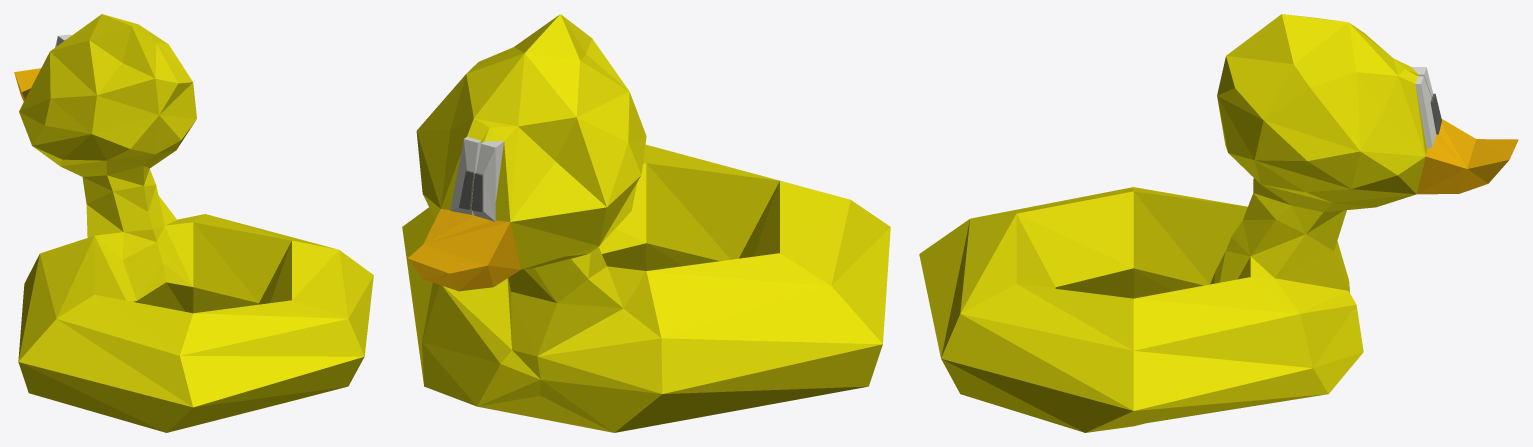
The model's file is safetyRing.fbx.
3 views of the same model, side by side, from view 1: azimuth 30°, elevation 25°; view 2: azimuth 150°, elevation 25°; view 3: azimuth 270°, elevation 25° (orthographic). The views are drawn at different scales.
Visible parts, largest first — view 1: pTorus1; view 2: pTorus1; view 3: pTorus1.
Part boxes in pixels (box(x1,y1,x2,y2)): pTorus1: box(14, 14, 373, 432); pTorus1: box(402, 14, 890, 432); pTorus1: box(919, 14, 1518, 432).
Size of the model in its own units: 0.043 by 0.0352 by 0.0529.
